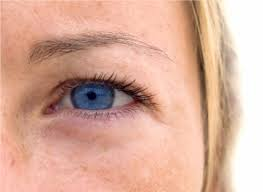pupil: (71, 84, 114, 109)
